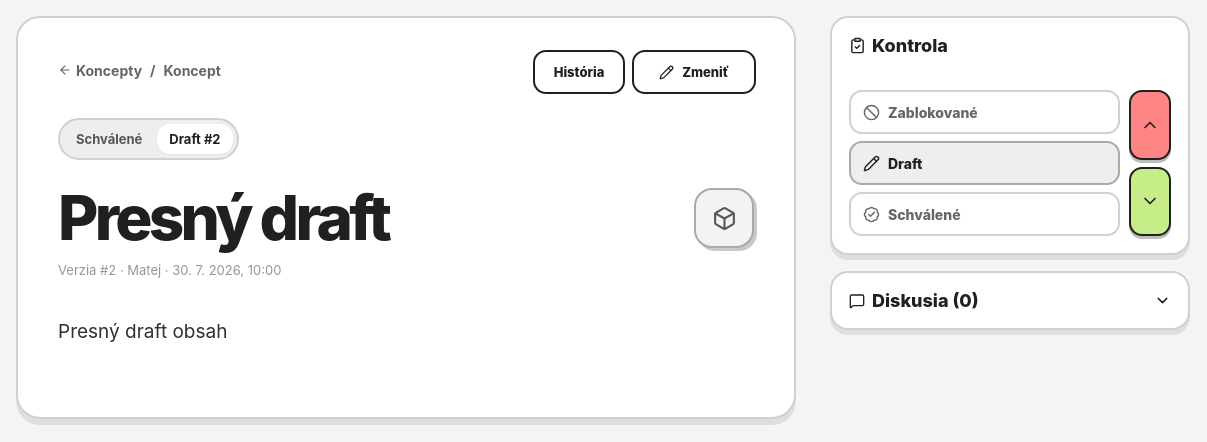
Test: PagePage revision links › edits the current draft but prevents creating a second draft from the approved version
Expected: the heading "Presný draft" is shown, [58,180,388,255]
Expected: the button "Zmeniť" is enabled, [632,50,756,94]
Step 1. Click the tab "Schválené" → (109, 139), box [64,124,154,154]
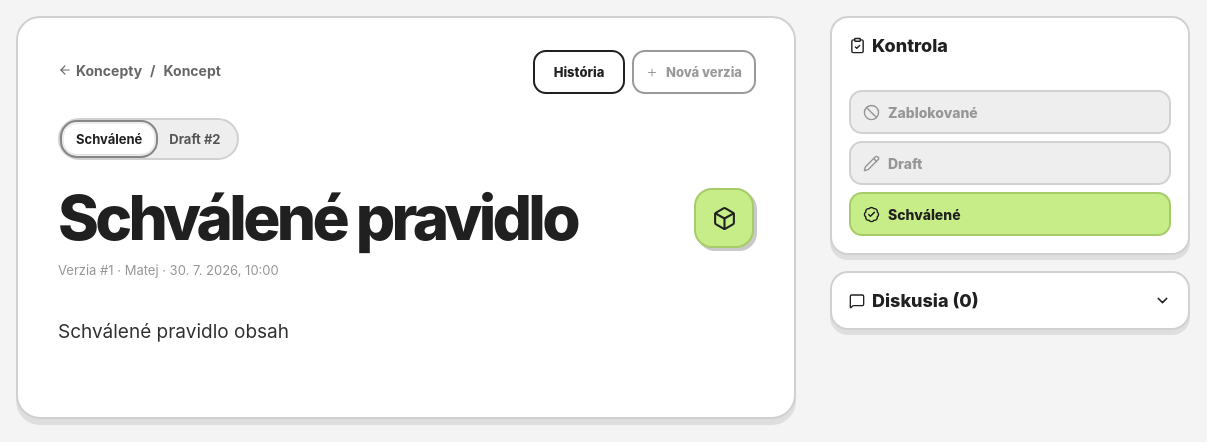
Result: the button "Nová verzia" is disabled at [632,50,756,94]
